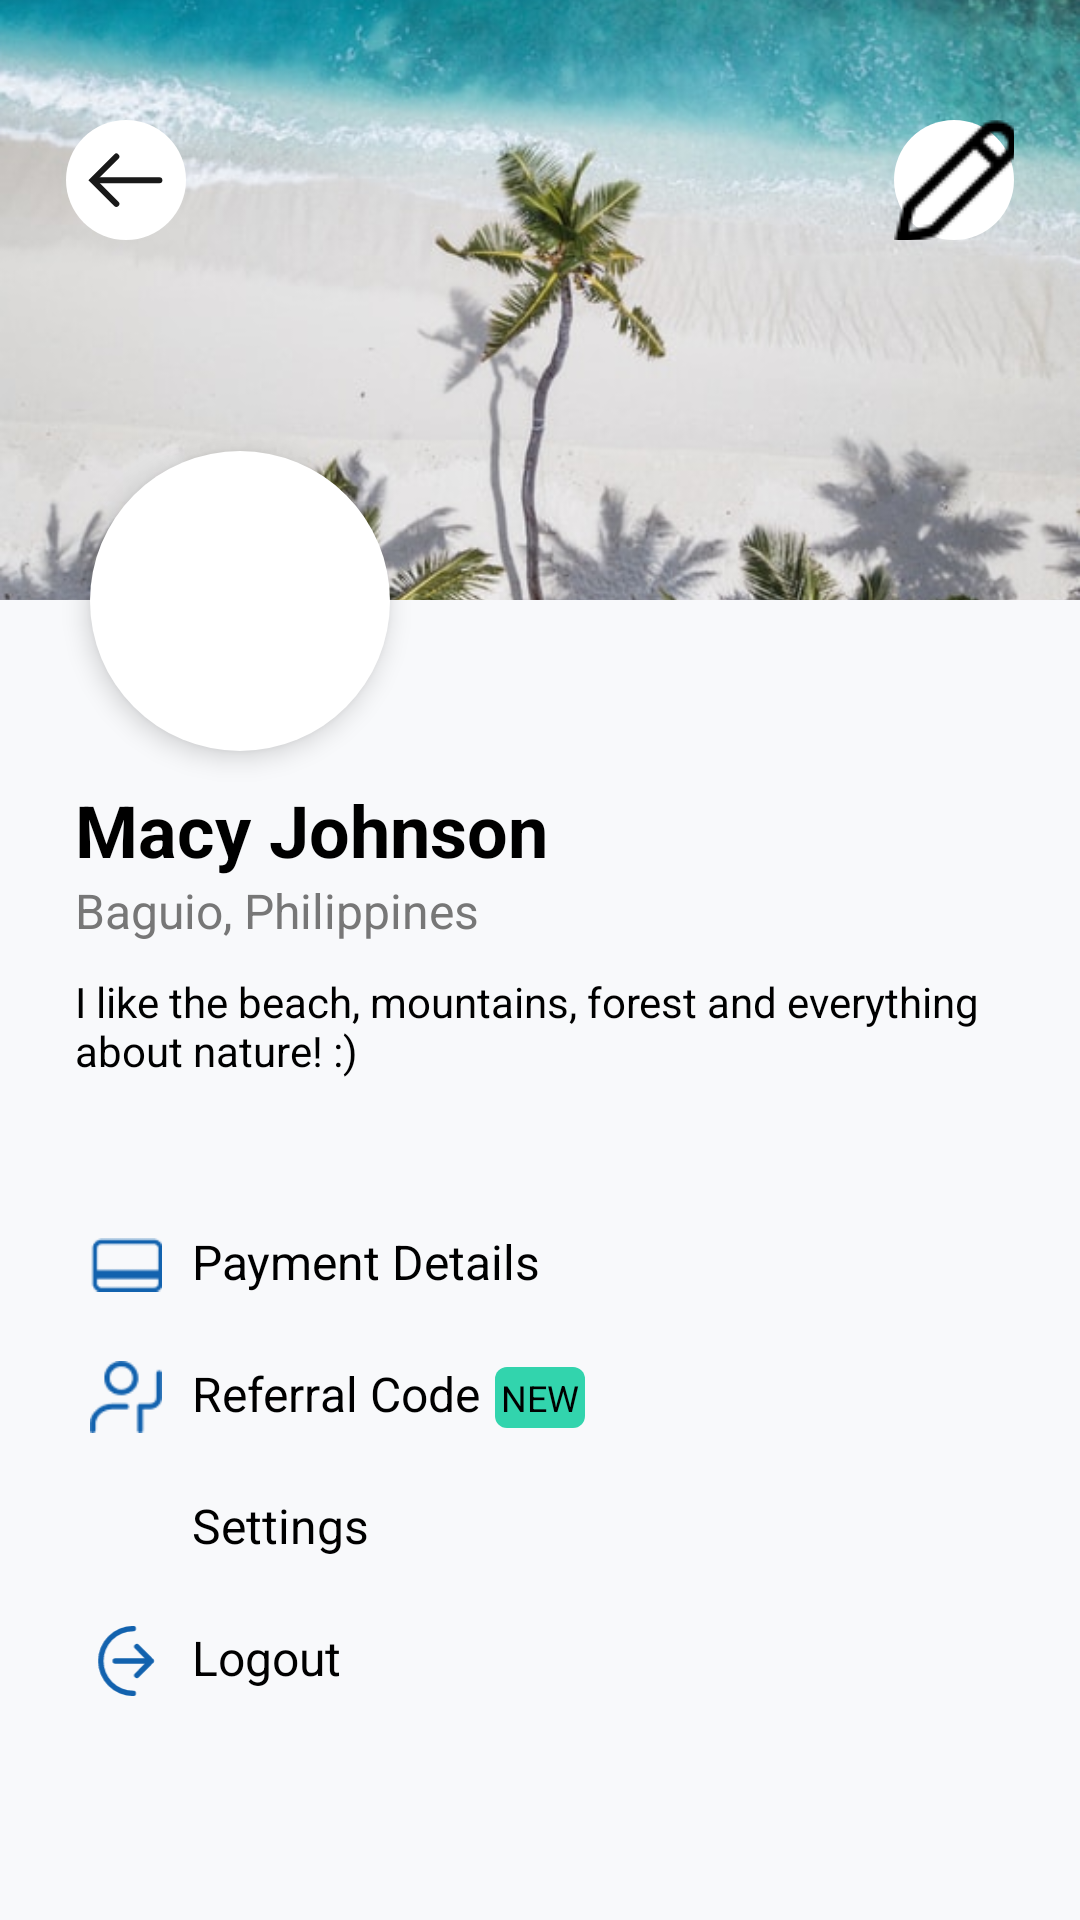

Point at icon controls on the screen. Image size 1080px×1920px, points as [x,y].
back arrow: [126,180]
edit: [954,180]
